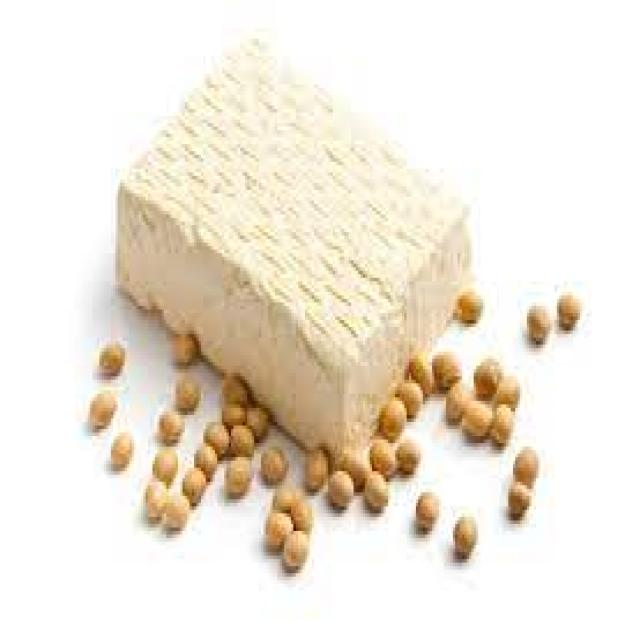tofu: (124, 25, 491, 464)
